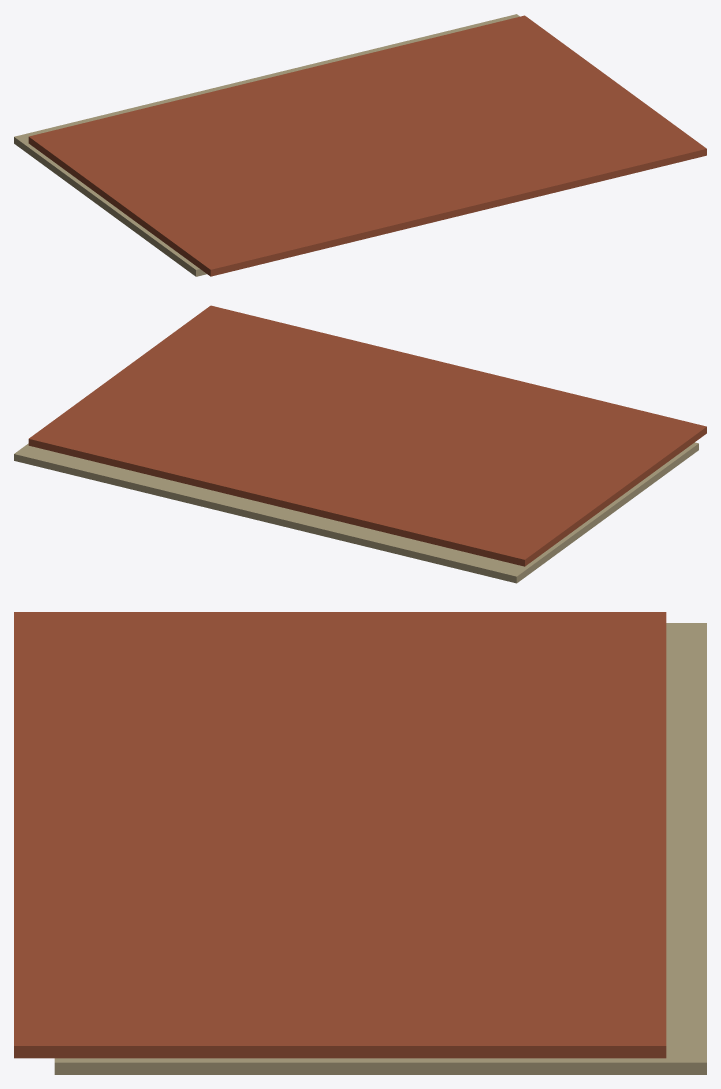
File: drone4_doors.obj
The picture shows the model from 3 angles, top to bottom: view 1: azimuth 30°, elevation 25°; view 2: azimuth 150°, elevation 25°; view 3: azimuth 270°, elevation 25°; orthographic projection. The views are drawn at different scales.
Parts seen in each view (by area): view 1: drone4_doors; view 2: drone4_doors; view 3: drone4_doors.
Part boxes in pixels (x1,y1,x2,y2): drone4_doors: (14, 14, 706, 276); drone4_doors: (14, 305, 706, 583); drone4_doors: (14, 612, 706, 1074).
Bounding box in the file's own units: 3.07 × 0.085 × 2.05.
